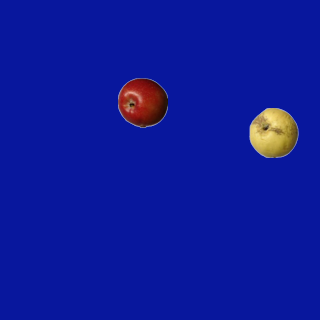Apple Braeburn: (117, 77, 167, 127)
Apple Golden 1: (248, 107, 298, 157)
